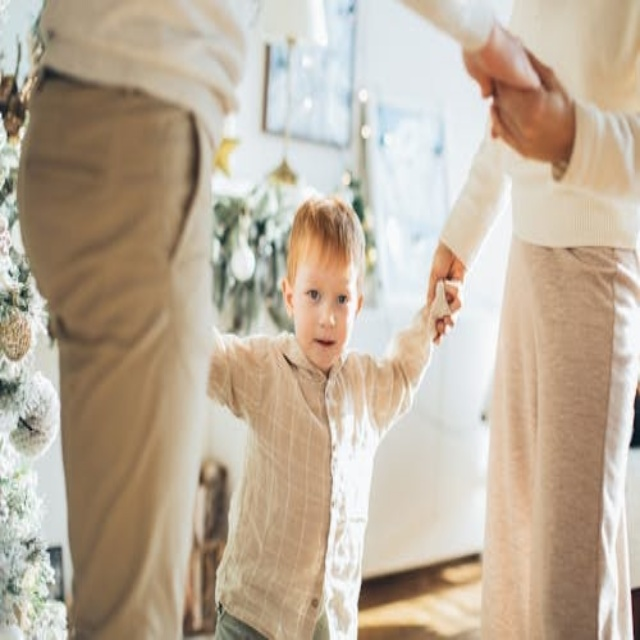Sin_gafas: (302, 273, 353, 317)
Sin_guantes: (482, 41, 575, 172), (425, 238, 471, 335)
Sin_mascara: (305, 323, 340, 367)
